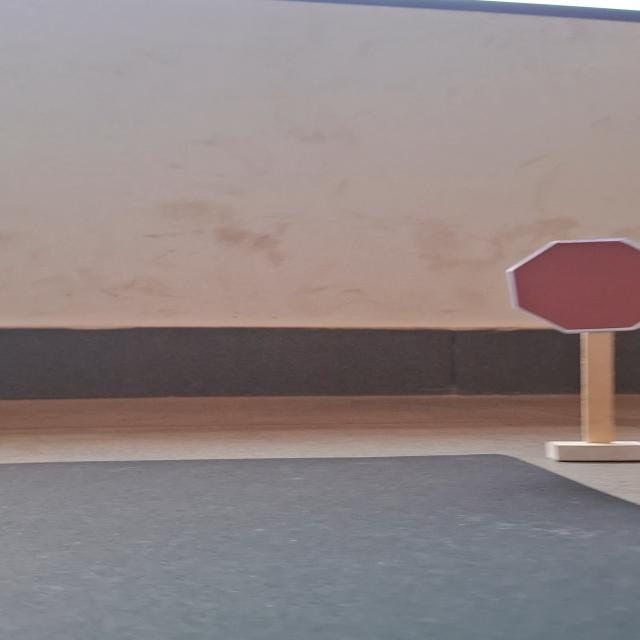Stop: (505, 235, 640, 340)
